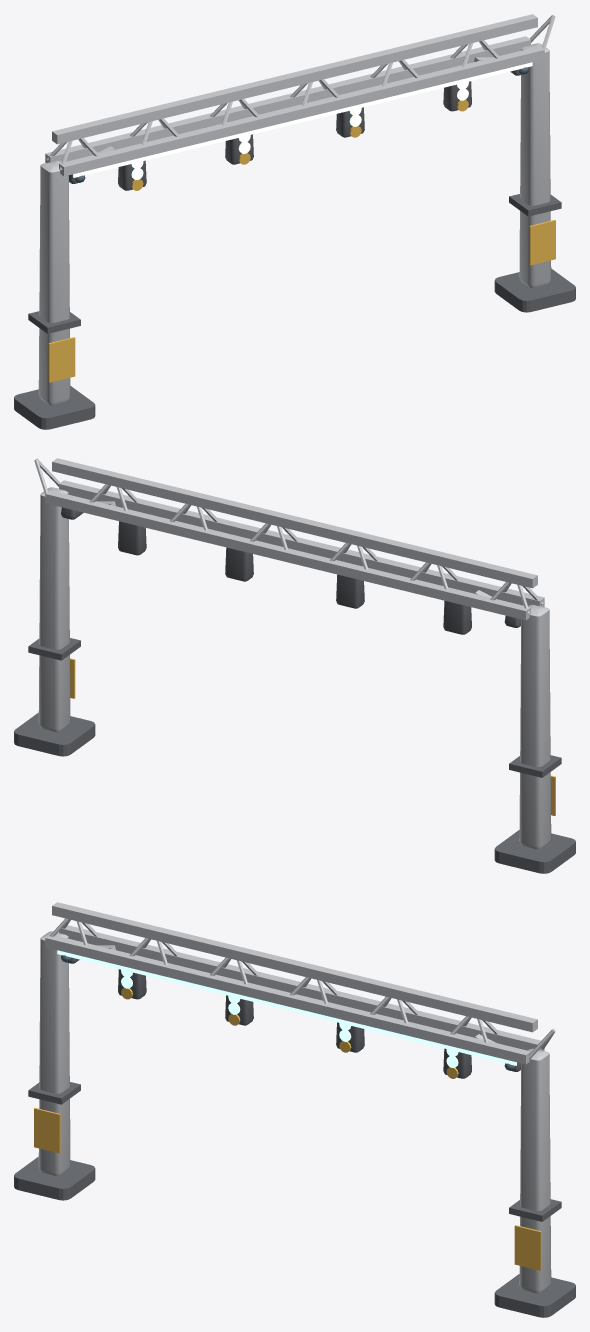
Rendered from hover-transit-and-antigrav-fleet-air-traffic-gantry-a958cda9__17112.glb.
3 renders of one model, top to bottom at view 1: azimuth 30°, elevation 25°; view 2: azimuth 150°, elevation 25°; view 3: azimuth 330°, elevation 25°, orthographic.
Parts seen in each view (by area): view 1: air-traffic-gantry; view 2: air-traffic-gantry; view 3: air-traffic-gantry.
Boxes of the visible parts, <box> form: air-traffic-gantry: <box>14,14,575,429</box>; air-traffic-gantry: <box>14,458,575,873</box>; air-traffic-gantry: <box>14,902,575,1317</box>.
Bounding box in the file's own units: 14.5 × 7.22 × 1.5.
